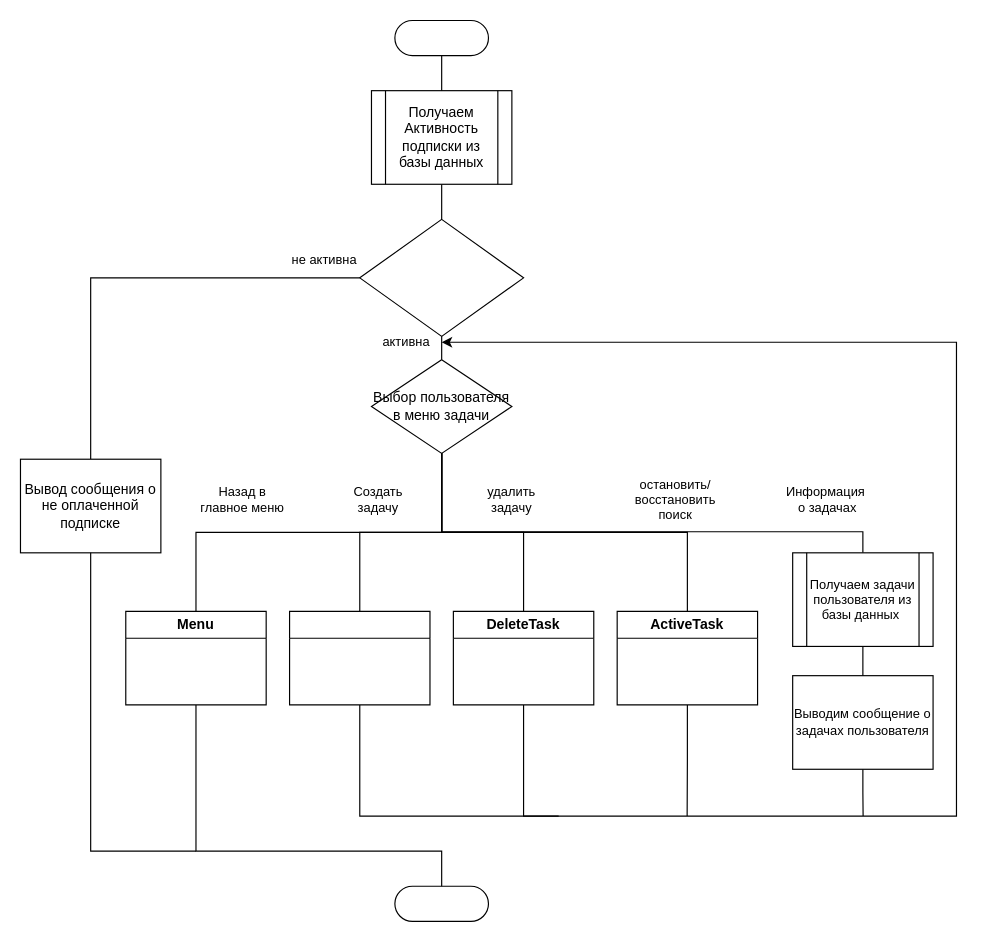
Image size: 986x942. Some labels were removed from this diagram. Each missing label, with the centre of its shape:
CreateTask: the point at 359,657
Конец: the point at 441,903
Начало: the point at 441,37
Подписка активна: the point at 441,277
